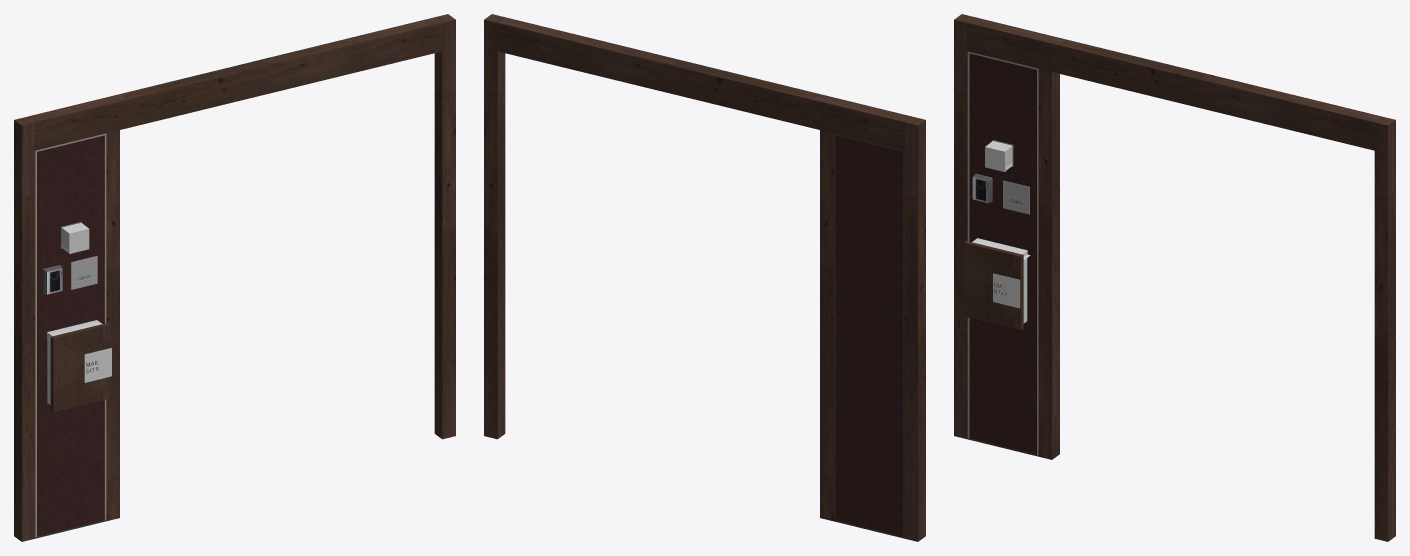
The model's file is esm5_darkpine.fbx.
3 views of the same model, side by side, from view 1: azimuth 30°, elevation 25°; view 2: azimuth 150°, elevation 25°; view 3: azimuth 330°, elevation 25° (orthographic).
Parts seen in each view (by area): view 1: esm5-darkpine; view 2: esm5-darkpine; view 3: esm5-darkpine.
Part boxes in pixels (box(x1,y1,x2,y2)): esm5-darkpine: box(14, 14, 455, 541); esm5-darkpine: box(484, 14, 925, 541); esm5-darkpine: box(954, 14, 1395, 541).
Size of the model in its own units: 240 by 220 by 18.87.
Materials: 17 (8 with a texture image).
